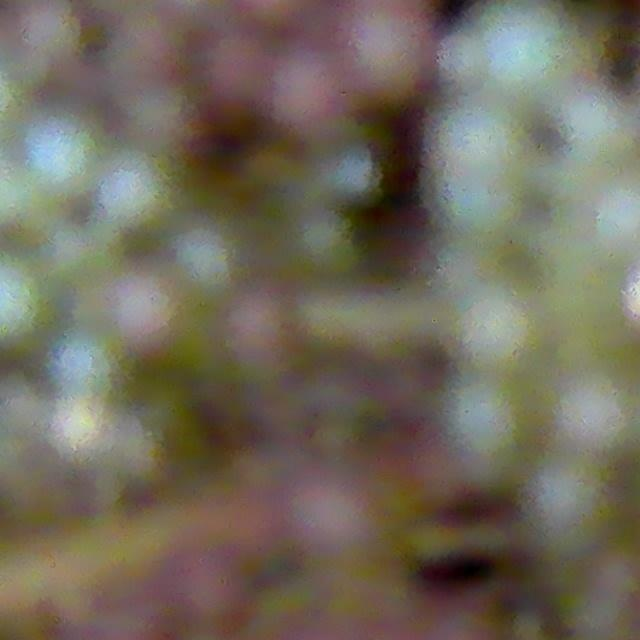SeaGrape: (457, 0, 579, 107), (147, 537, 262, 640), (292, 56, 380, 163), (521, 455, 616, 553), (455, 284, 546, 375), (435, 98, 528, 187), (356, 6, 440, 104), (447, 375, 534, 461), (552, 372, 635, 455), (23, 113, 94, 196), (215, 28, 287, 102), (95, 158, 165, 233), (46, 334, 117, 405), (166, 224, 239, 293)
